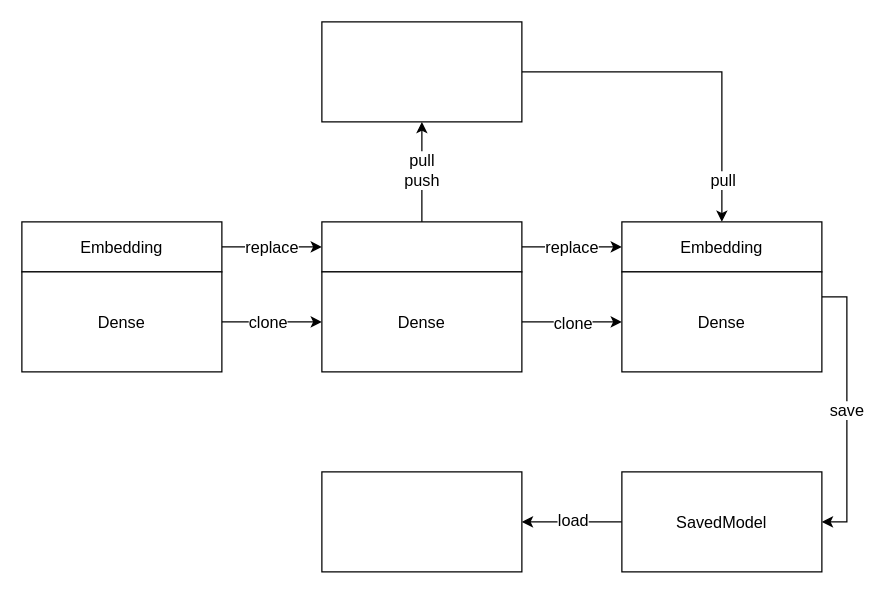
The diagram is 885 pixels wide and 594 high, and some of its shapes have lost their labels. Here are the shapes that lost their labels. From the top down, the box of each, then its label:
(321, 21, 522, 122): Parameter Servers
(321, 221, 522, 272): embed.Embedding
(321, 471, 522, 572): TensorFlow Serving (Original)
